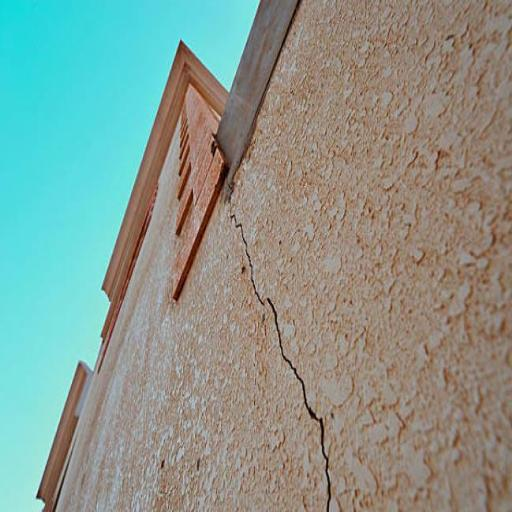spalling: (223, 199, 338, 509)
